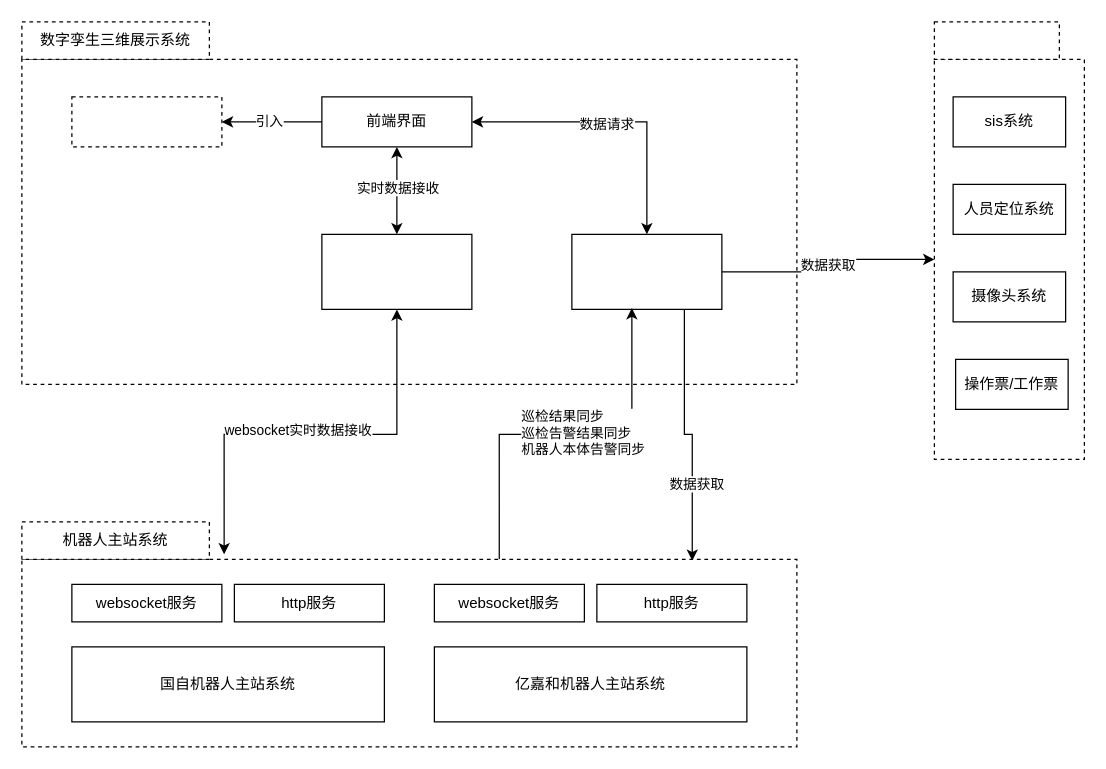
The diagram is 1106 pixels wide and 769 high, and some of its shapes have lost their labels. The centre of each missing label's shape, as x and y in pixels:
"api接口服务" belongs at (x=646, y=271).
"websocket转发服务" belongs at (x=396, y=271).
"三维库文件" belongs at (x=146, y=121).
"第三方系统" belongs at (x=996, y=40).
